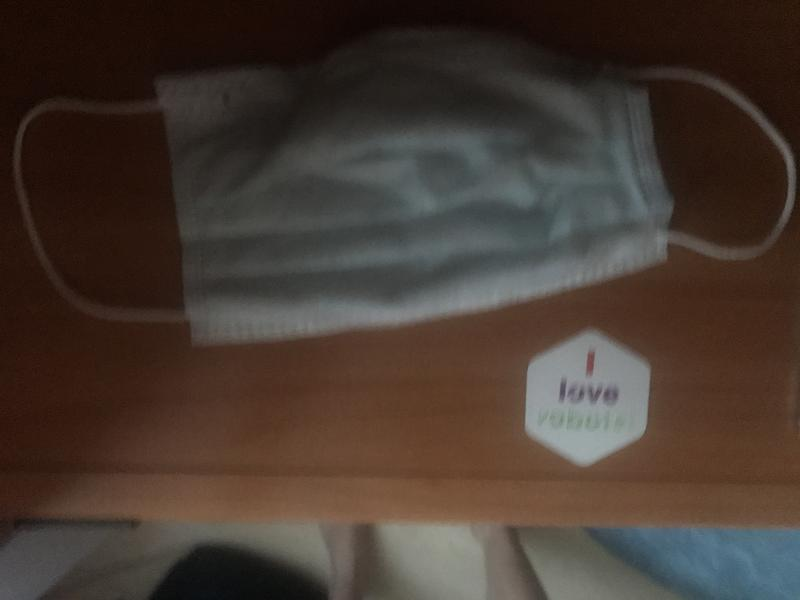medical_mask: (12, 29, 795, 343)
